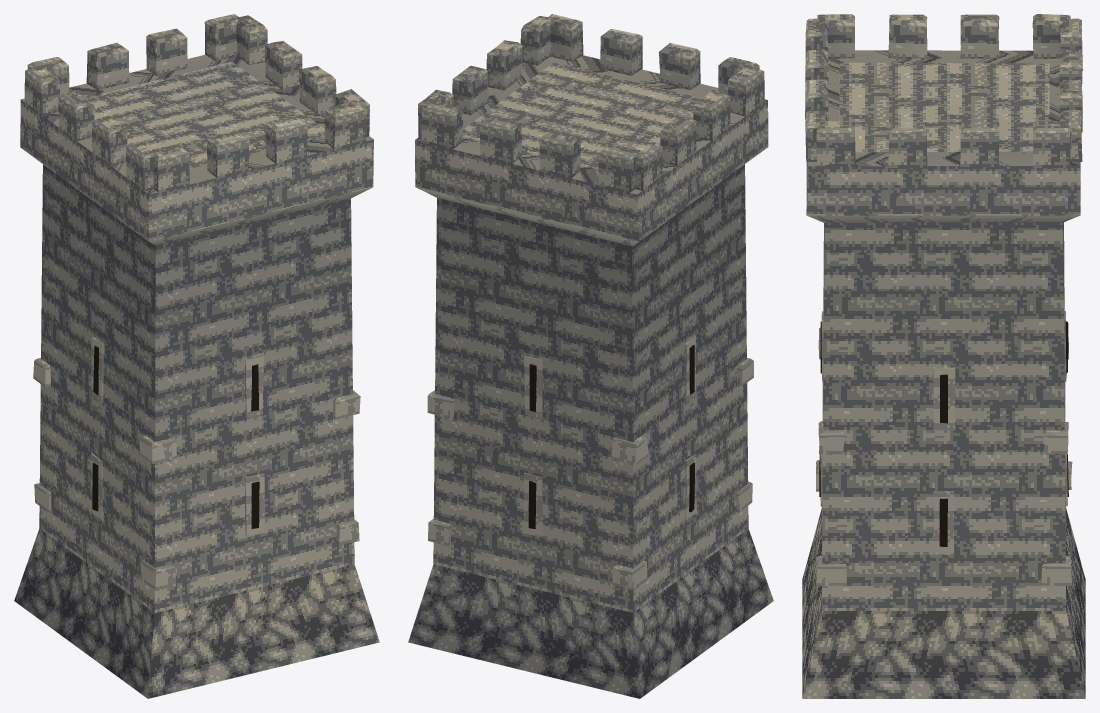
File: cst.tower_square.glb
3 views of the same model, side by side, from view 1: azimuth 30°, elevation 25°; view 2: azimuth 150°, elevation 25°; view 3: azimuth 270°, elevation 25° (orthographic). The views are drawn at different scales.
Parts seen in each view (by area): view 1: kit_shaft, kit_top, kit_detail; view 2: kit_shaft, kit_top, kit_detail; view 3: kit_shaft, kit_top, kit_detail.
Boxes of the visible parts, left/top/right/bottom form: kit_shaft: left=14, top=164, right=379, bottom=698; kit_top: left=20, top=14, right=373, bottom=245; kit_detail: left=33, top=337, right=360, bottom=589; kit_shaft: left=408, top=164, right=773, bottom=698; kit_top: left=415, top=14, right=768, bottom=246; kit_detail: left=427, top=336, right=753, bottom=590; kit_shaft: left=802, top=222, right=1085, bottom=698; kit_top: left=805, top=14, right=1082, bottom=222; kit_detail: left=816, top=311, right=1072, bottom=586.
Bounding box in the file's own units: 5.8 × 12.85 × 5.8.
5 materials, 5 textured.
